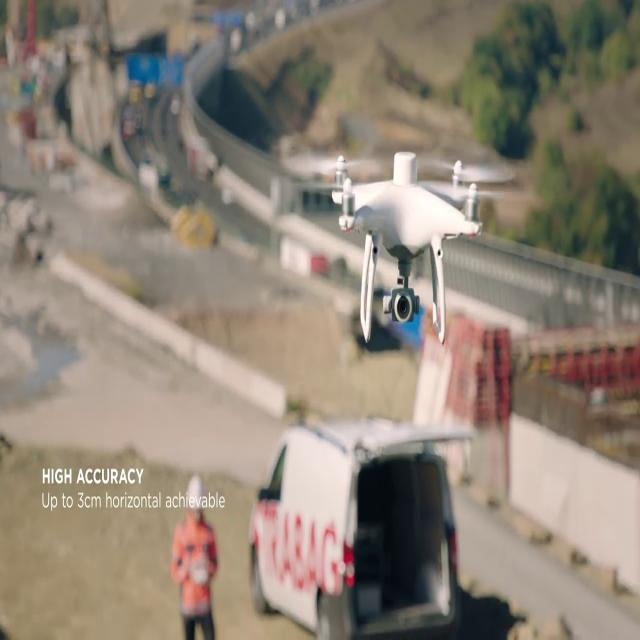drone: (291, 147, 517, 345)
